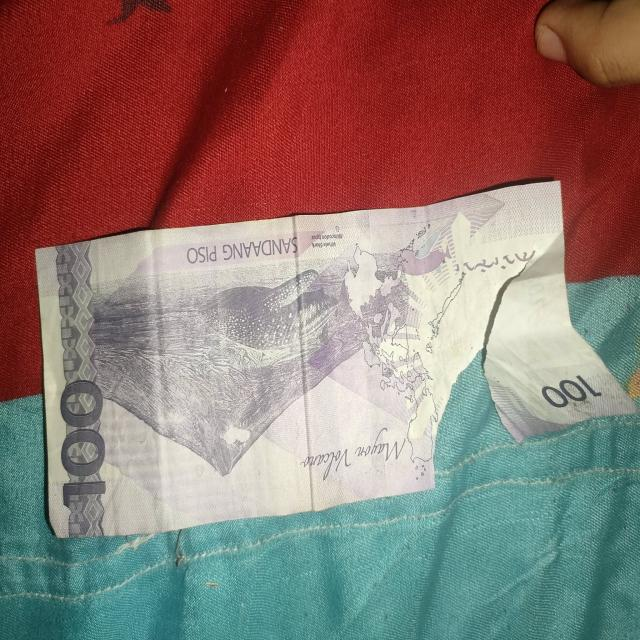broken: (33, 172, 640, 549)
torn: (410, 221, 640, 522)
